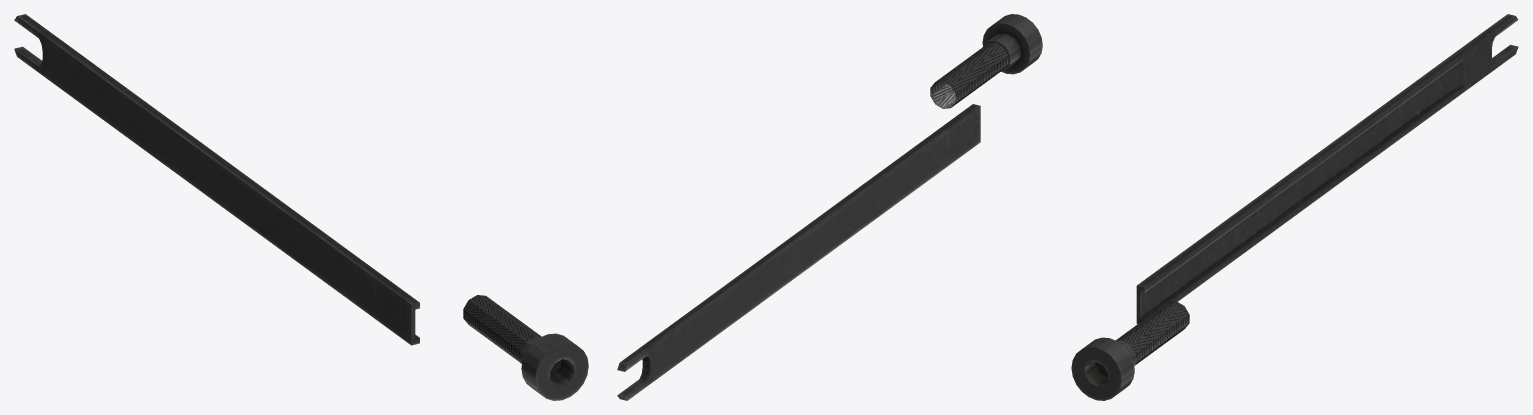
3 views of the same model, side by side, from view 1: azimuth 30°, elevation 25°; view 2: azimuth 150°, elevation 25°; view 3: azimuth 330°, elevation 25° (orthographic). The views are drawn at different scales.
Parts seen in each view (by area): view 1: TW_661cec09b2c6356b4d0c7a36_PZ_Import; view 2: TW_661cec09b2c6356b4d0c7a36_PZ_Import; view 3: TW_661cec09b2c6356b4d0c7a36_PZ_Import.
Part boxes in pixels (left/top/right/bottom): TW_661cec09b2c6356b4d0c7a36_PZ_Import: left=14, top=14, right=588, bottom=400; TW_661cec09b2c6356b4d0c7a36_PZ_Import: left=617, top=14, right=1042, bottom=400; TW_661cec09b2c6356b4d0c7a36_PZ_Import: left=1071, top=14, right=1518, bottom=400.
Size of the model in its own units: 0.015 by 0.1588 by 0.0104.
Materials: 1 (1 with a texture image).
